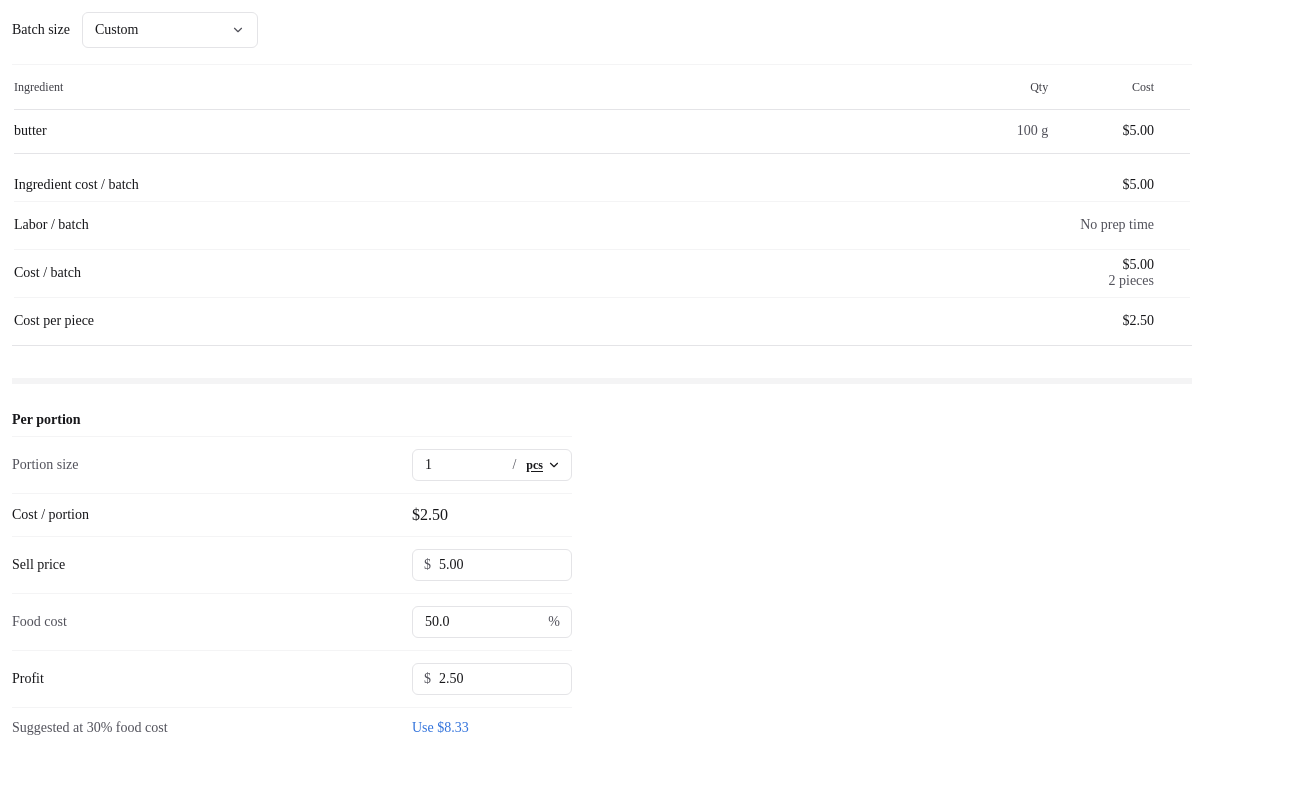
Test: the food cost calculator › rejects zero without showing figures from the previously saved price
Replace the text in the number field named "Sell price" with "0" at (492, 565), box [412,549,572,581]
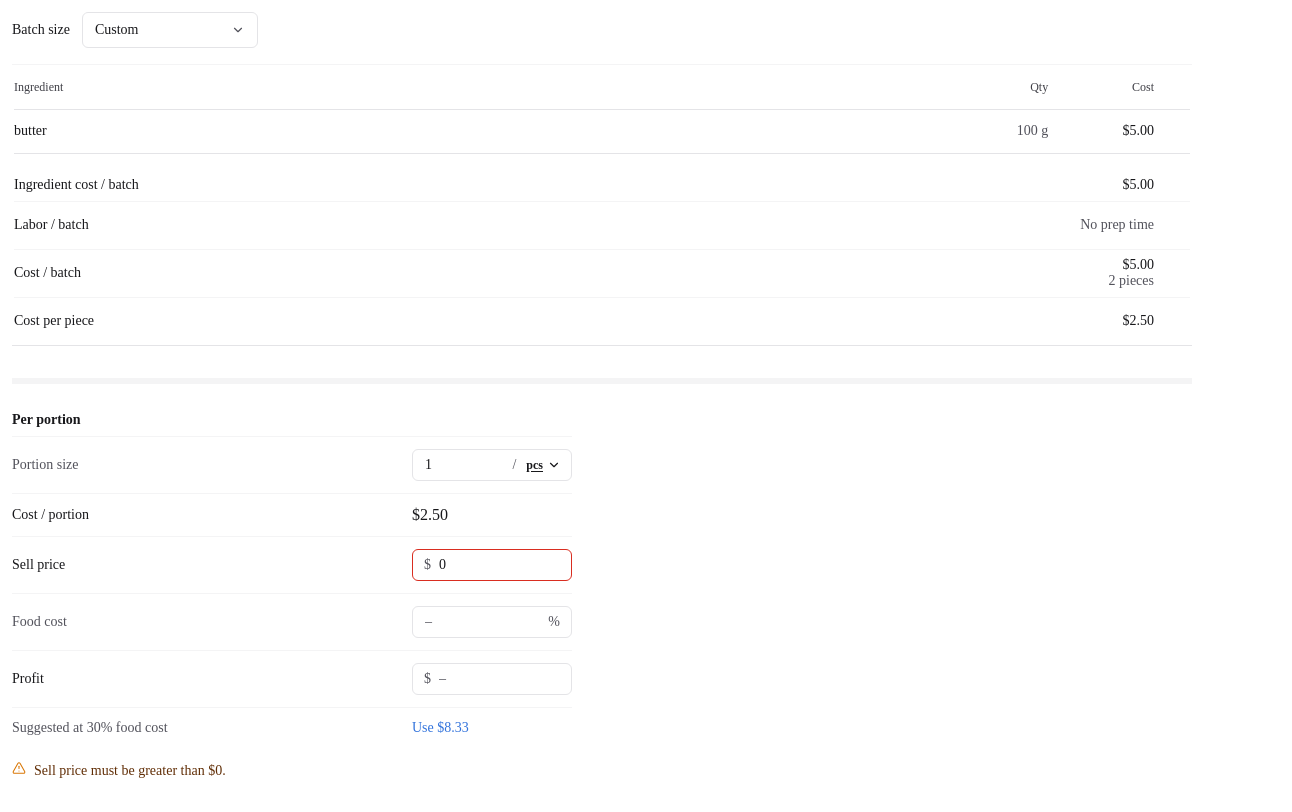
expect the text "Sell price must be greater than $0." is shown: met, box [34,760,226,782]
